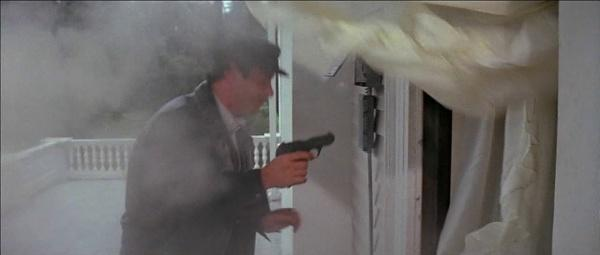Gun: (275, 132, 336, 160)
